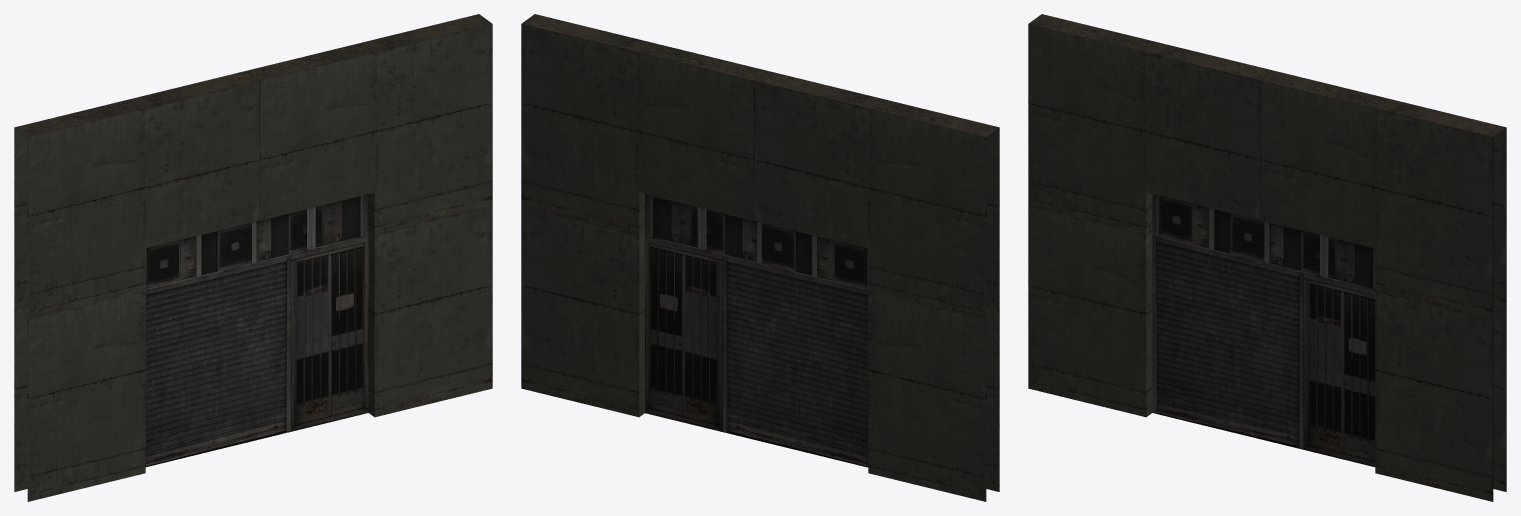
Rendered from garage_door_frame_rg_1.glb.
The picture shows the model from 3 angles, left to right: view 1: azimuth 30°, elevation 25°; view 2: azimuth 150°, elevation 25°; view 3: azimuth 330°, elevation 25°; orthographic projection.
Parts seen in each view (by area): view 1: garage_door_frame_rg_1, garage_door_hr_1; view 2: garage_door_frame_rg_1, garage_door_hr_1; view 3: garage_door_frame_rg_1, garage_door_hr_1.
Boxes of the visible parts, box(x1,y1,x2,y2) form: garage_door_frame_rg_1: box(14, 14, 492, 501); garage_door_hr_1: box(145, 194, 368, 466); garage_door_frame_rg_1: box(521, 14, 999, 501); garage_door_hr_1: box(645, 194, 868, 467); garage_door_frame_rg_1: box(1028, 14, 1506, 501); garage_door_hr_1: box(1152, 194, 1375, 466).
Bounding box in the file's own units: 8 × 6 × 0.4.
Materials: 3 (3 with a texture image).
